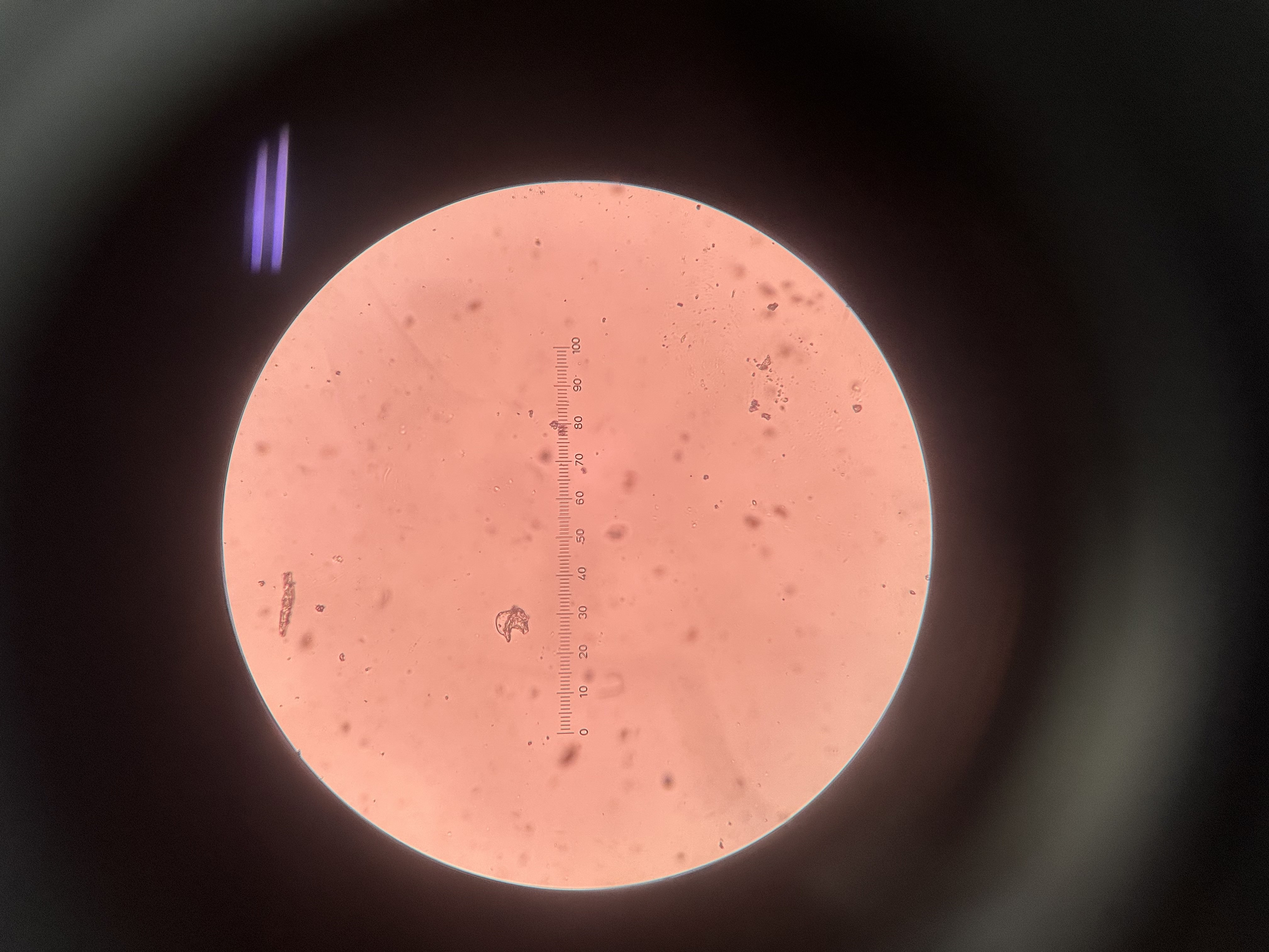microplastic: (485, 606, 532, 647), (273, 575, 300, 639)
